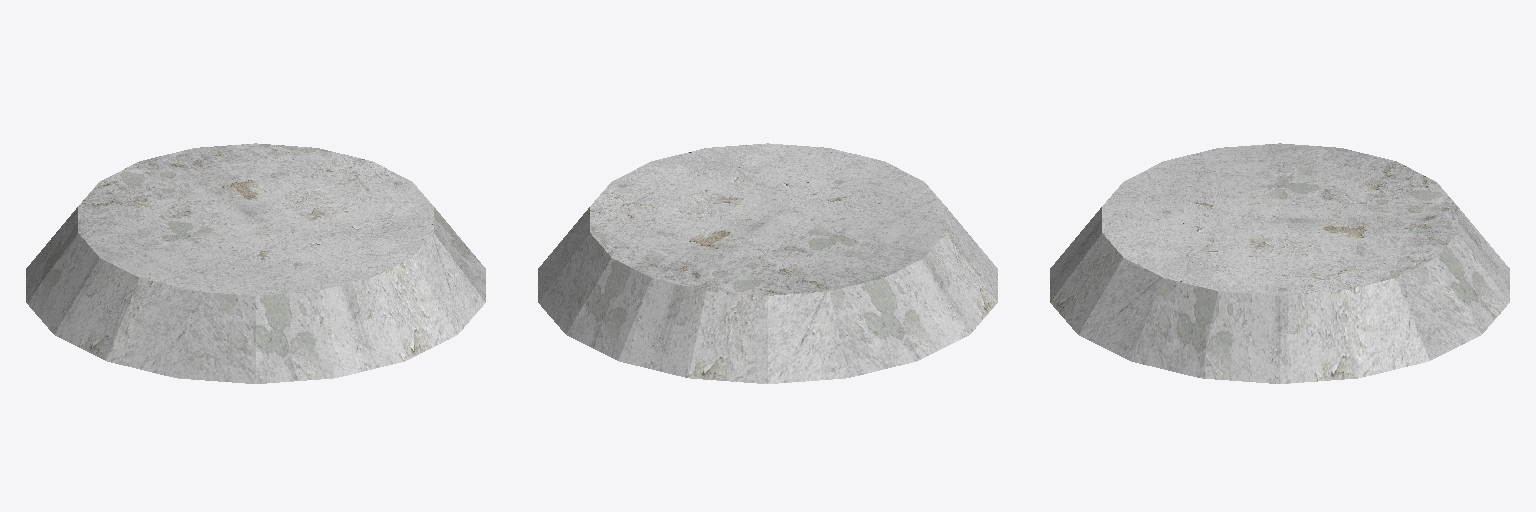
3 renders of one model, left to right at view 1: azimuth 30°, elevation 25°; view 2: azimuth 150°, elevation 25°; view 3: azimuth 270°, elevation 25°, orthographic.
Visible parts, largest first — view 1: Cylinder001; view 2: Cylinder001; view 3: Cylinder001.
Boxes of the visible parts, <box> form: Cylinder001: <box>26,143,485,383</box>; Cylinder001: <box>538,143,997,383</box>; Cylinder001: <box>1050,143,1509,383</box>.
Bounding box in the file's own units: 12.16 × 2.09 × 11.98.
1 materials, 1 textured.